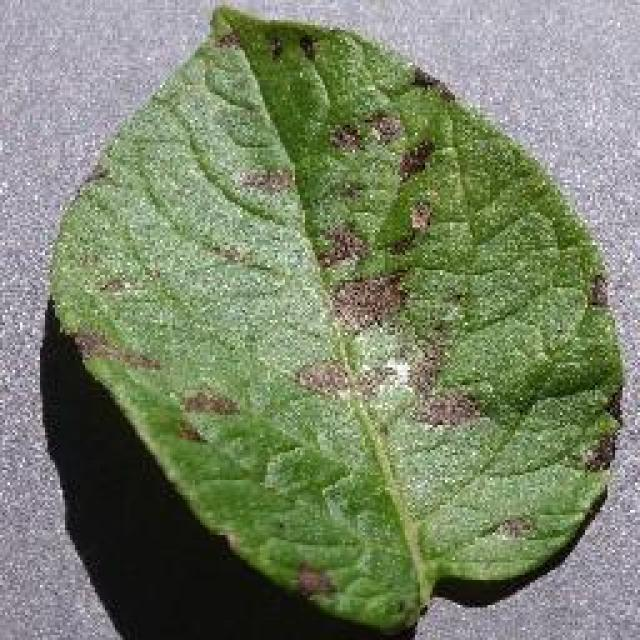early_blight: (42, 2, 628, 638)
